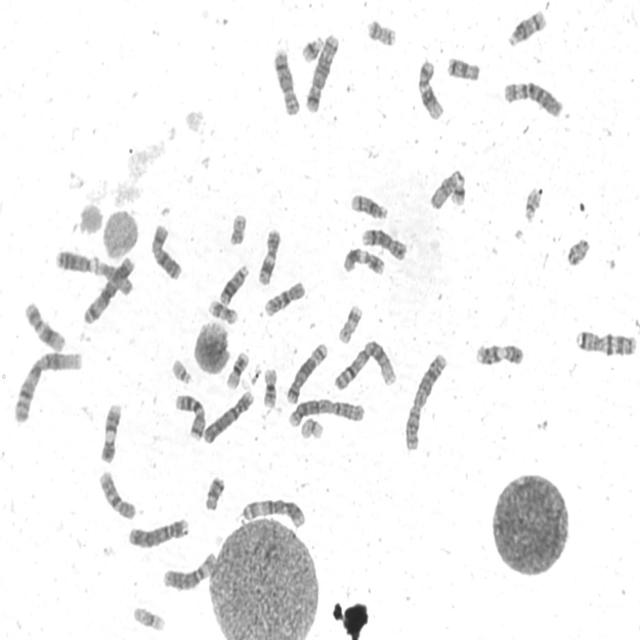A1: (10, 348, 84, 425), (331, 337, 398, 393)
A2: (402, 350, 448, 452), (285, 395, 366, 428)
A3: (81, 253, 136, 326), (238, 495, 307, 530)
B4: (201, 386, 255, 446), (126, 515, 190, 550)
B5: (303, 30, 341, 115), (284, 339, 329, 406)
C10: (96, 468, 137, 521), (262, 278, 306, 318)
C11: (255, 225, 282, 287), (341, 244, 386, 276)
C12: (22, 298, 66, 354), (416, 56, 446, 122)
C6: (501, 77, 564, 119), (160, 549, 217, 592)
C7: (573, 326, 638, 358), (172, 391, 207, 442)
C8: (270, 45, 302, 117), (359, 225, 408, 262)
C9: (98, 400, 123, 465), (473, 339, 525, 368)
D13: (217, 261, 250, 307), (54, 247, 99, 276)
D14: (506, 6, 548, 48), (348, 190, 389, 221)
D15: (92, 255, 134, 298), (427, 166, 464, 211)
E16: (223, 348, 251, 391), (260, 365, 279, 410)
E17: (336, 302, 364, 345), (206, 297, 239, 326)
E18: (445, 54, 481, 82), (202, 472, 226, 512)
F19: (130, 603, 166, 633), (298, 414, 325, 440)
F20: (364, 15, 398, 48), (227, 210, 248, 248)
G21: (299, 31, 325, 63), (448, 174, 467, 207)
G22: (522, 184, 542, 224), (169, 356, 194, 386)
X: (148, 220, 184, 282)
